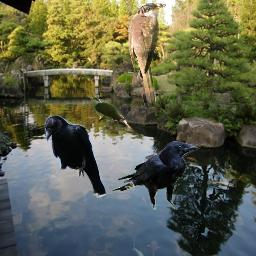Crow: (112, 141, 200, 210), (44, 115, 106, 199)
Cuckoo: (128, 3, 166, 108), (88, 96, 134, 131)
